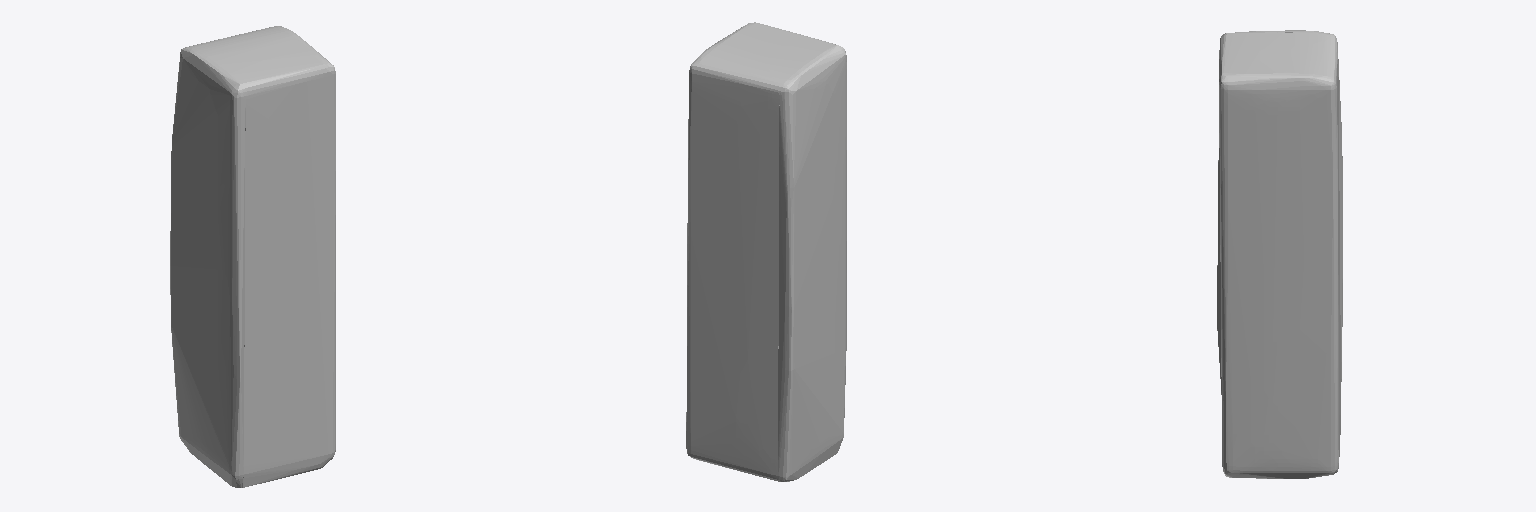
Rendered from coacd_collision.obj.
3 renders of one model, left to right at view 1: azimuth 30°, elevation 25°; view 2: azimuth 150°, elevation 25°; view 3: azimuth 270°, elevation 25°, orthographic.
Visible parts, largest first — view 1: geometry_1, geometry_0; view 2: geometry_1, geometry_0; view 3: geometry_1, geometry_0.
Boxes of the visible parts, <box> form: geometry_1: <box>189,26,335,487</box>; geometry_0: <box>170,47,245,487</box>; geometry_1: <box>686,22,835,481</box>; geometry_0: <box>778,45,846,481</box>; geometry_1: <box>1219,33,1340,478</box>; geometry_0: <box>1217,30,1342,394</box>.
Bounding box in the file's own units: 59.6 × 209 × 58.6.